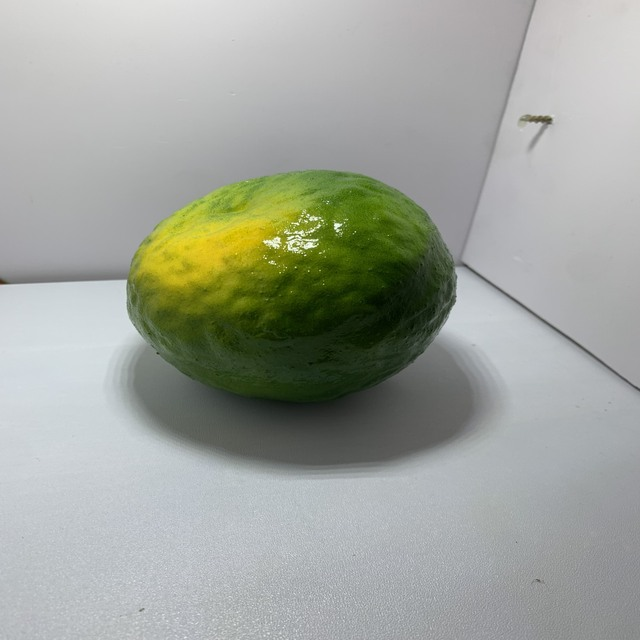Cam xanh: (122, 169, 474, 403)
